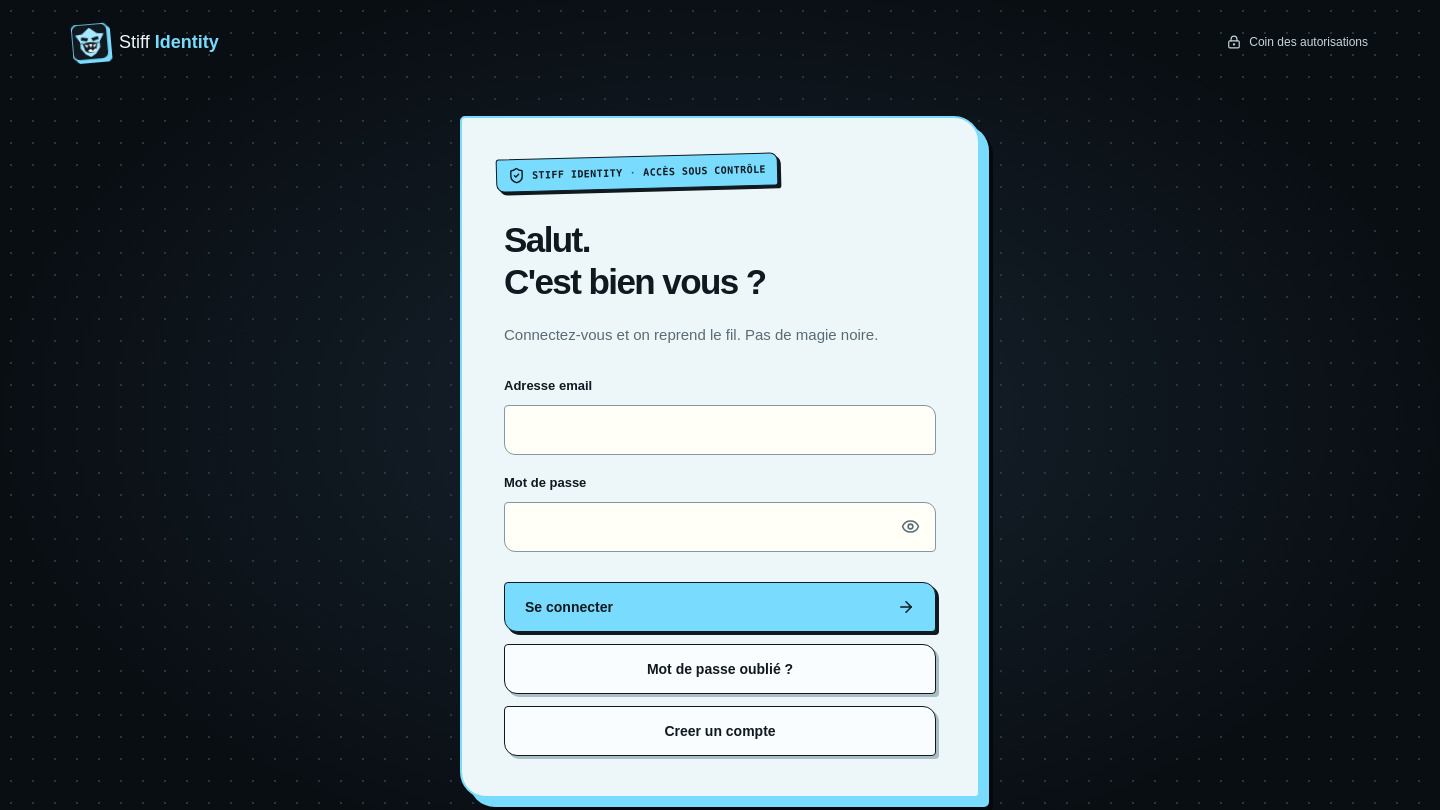
interface › affiche uniquement le champ email avant de demander la confirmation de réinitialisation
Type "user@example.com" into the field with id "email".
click(720, 430); type("user@example.com")  # box [504,405,936,455]
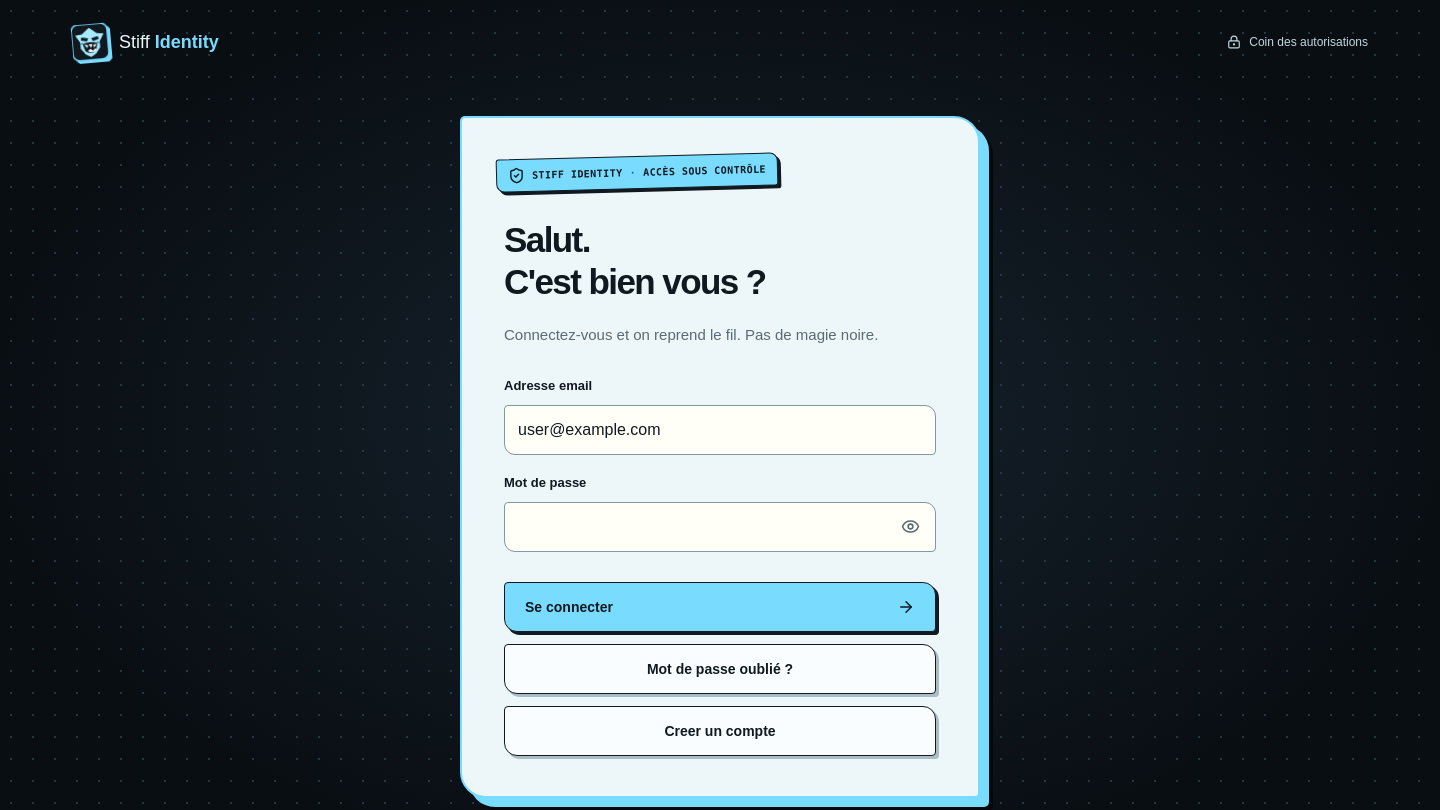
Click the button with class "forgot-password".
click(720, 669)  # box [504,644,936,694]
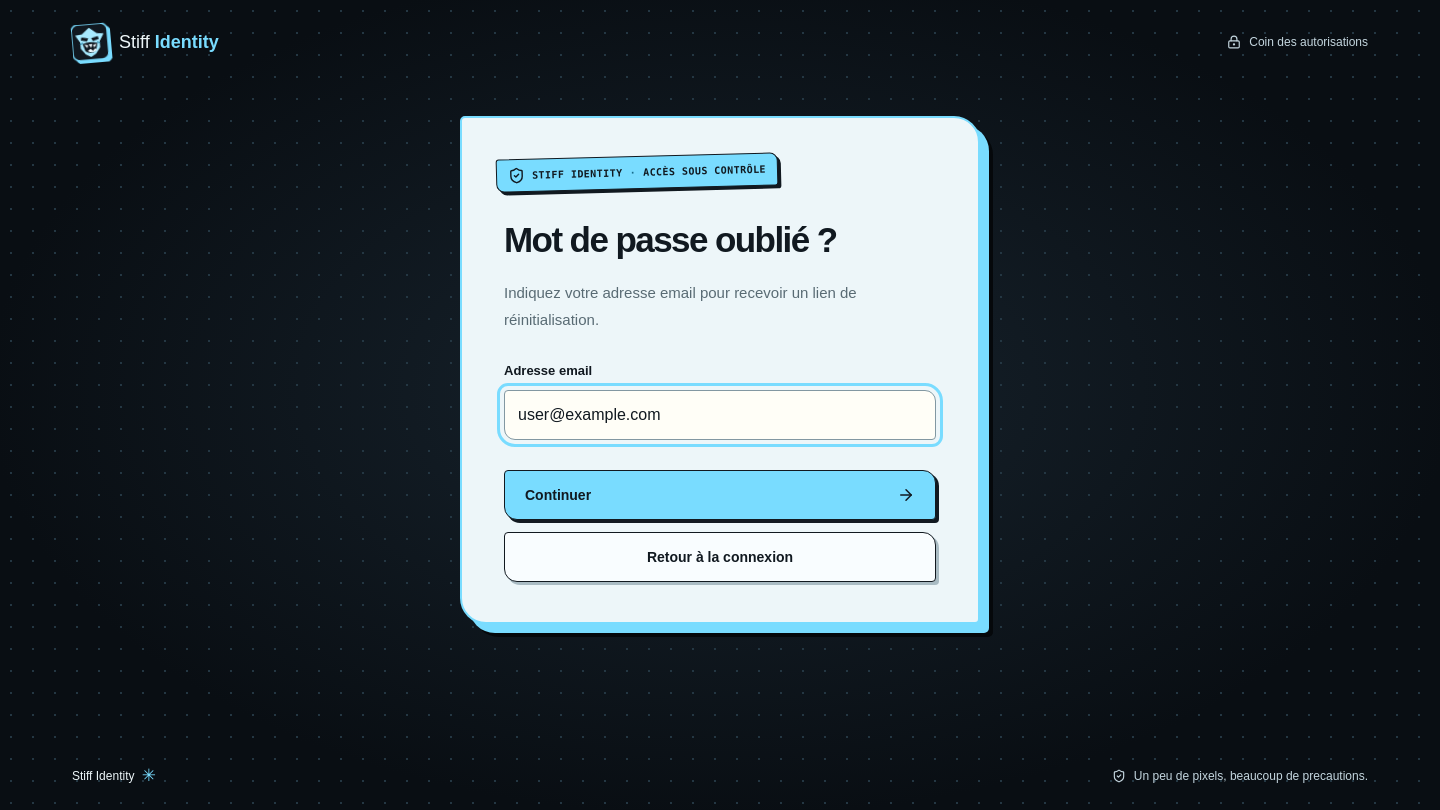
Check: the number of fields is 1, box [504,390,936,440]
Check: the heading "Mot de passe oublié ?" is shown, box [504,220,836,259]
Submit the form, box [504,363,936,582]
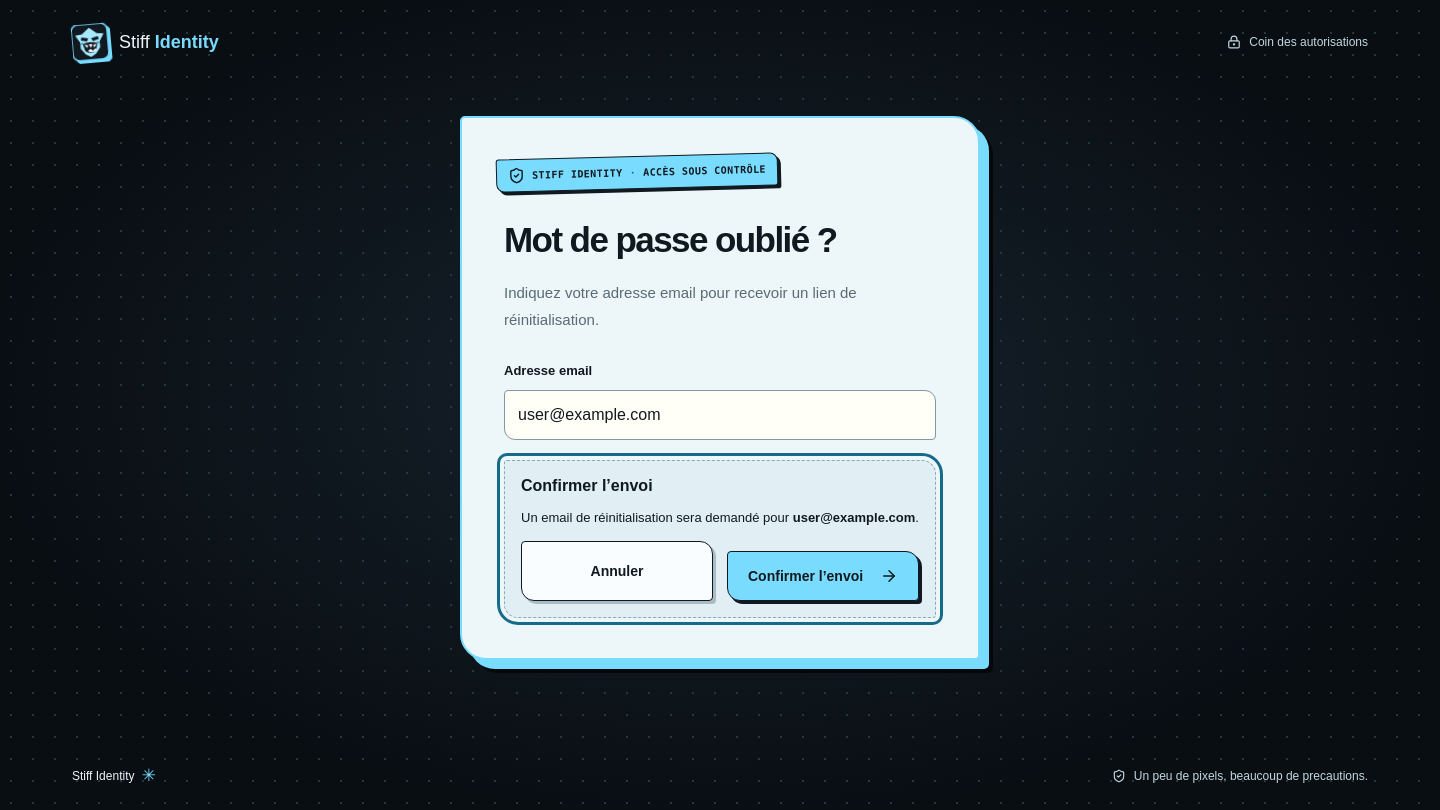
Check: the text "Confirmer l’envoi" is shown, box [521,477,653,494]
Check: the text "user@example.com" is shown, box [793,510,915,525]
Submit the form, box [504,363,936,618]
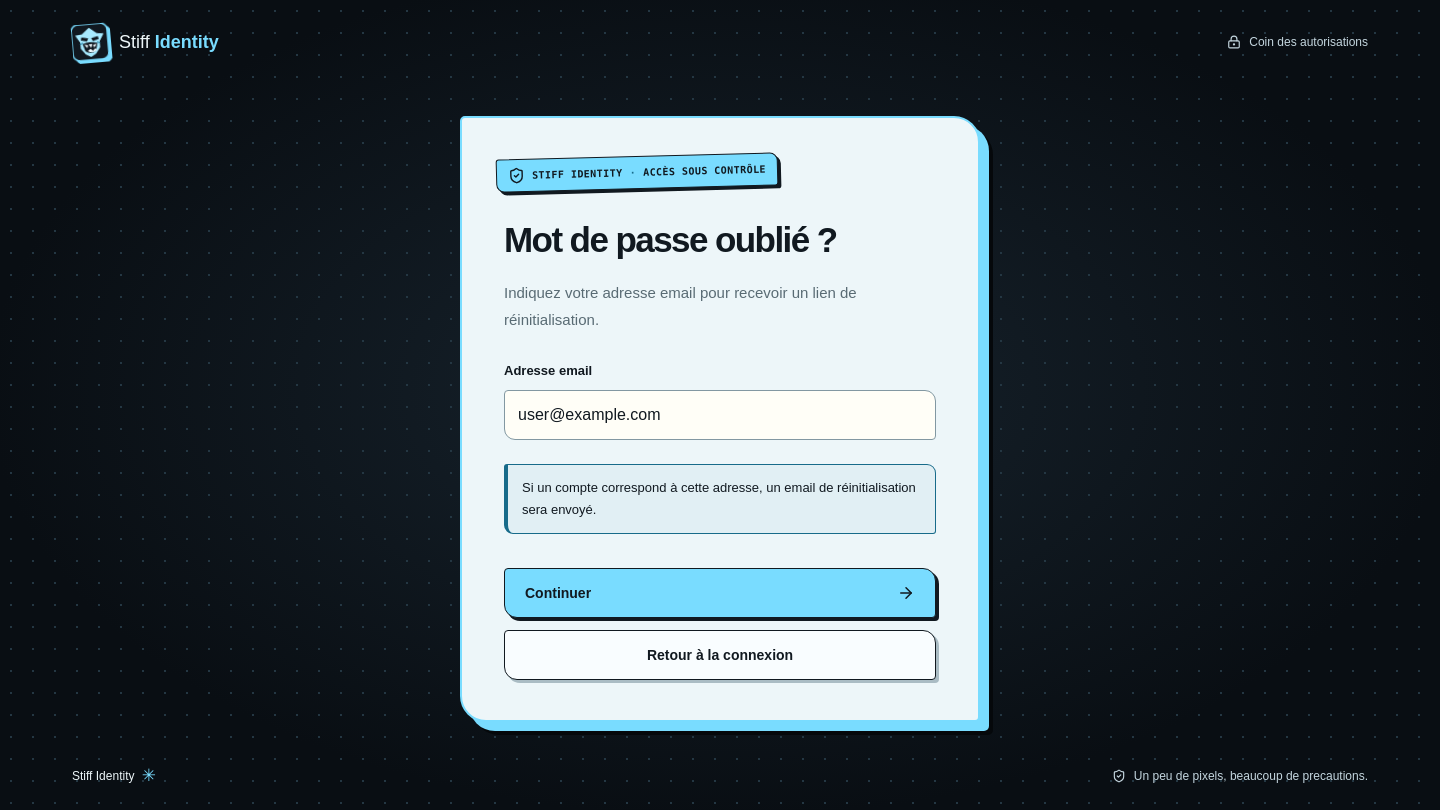
Check: the message shows "Si un compte correspond", box [522,480,916,517]
